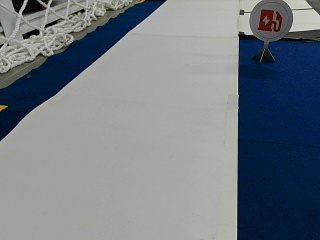battery: (248, 0, 293, 41)
